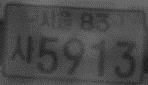1: (90, 36, 107, 79)
3: (113, 39, 137, 79), (95, 12, 110, 34)
5: (35, 34, 59, 74)
8: (79, 11, 95, 33)
9: (61, 36, 85, 77)
사: (9, 33, 35, 65)
서울_H: (39, 9, 74, 31)
